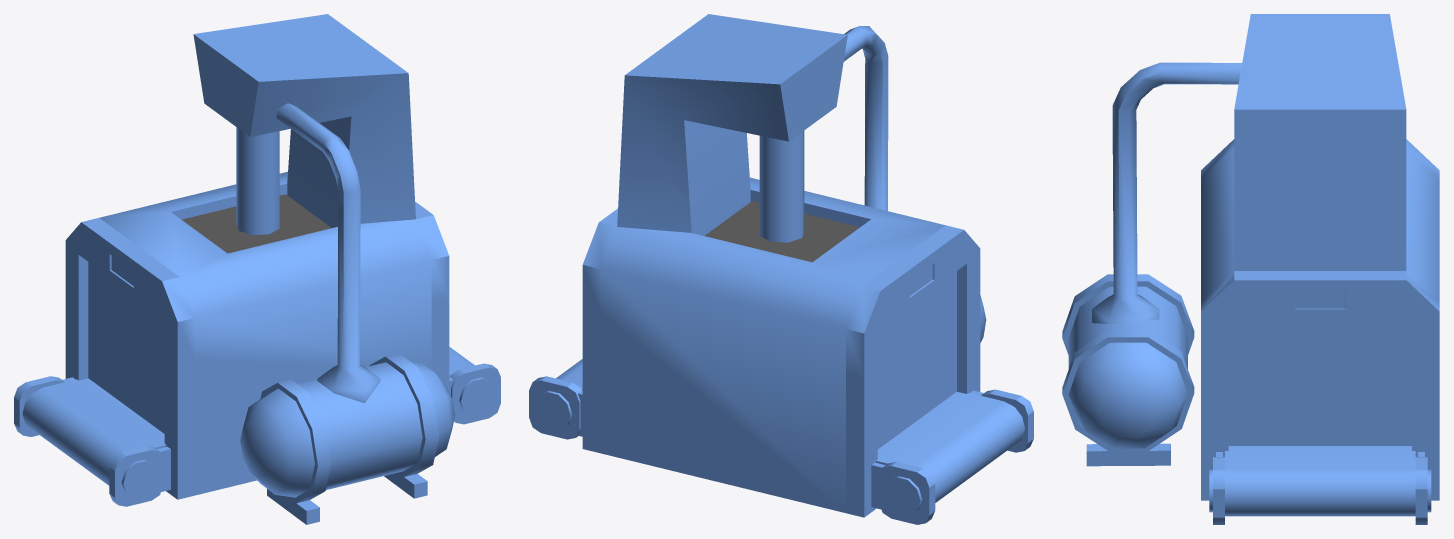
The model's file is Extruder.fbx.
3 views of the same model, side by side, from view 1: azimuth 30°, elevation 25°; view 2: azimuth 150°, elevation 25°; view 3: azimuth 270°, elevation 25° (orthographic). The views are drawn at different scales.
Parts seen in each view (by area): view 1: Extruder, PressBlock; view 2: Extruder, PressBlock; view 3: Extruder.
Part boxes in pixels (x1,y1,x2,y2): Extruder: (14,14,500,524); PressBlock: (182,194,331,253); Extruder: (529,14,1033,524); PressBlock: (705,201,859,262); Extruder: (1062,14,1439,524).
Bounding box in the file's own units: 199 × 187 × 158.
